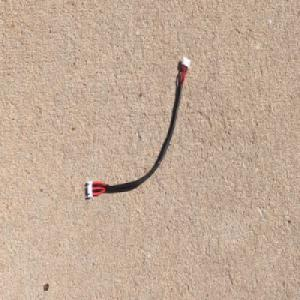Wire: (86, 53, 191, 201)
